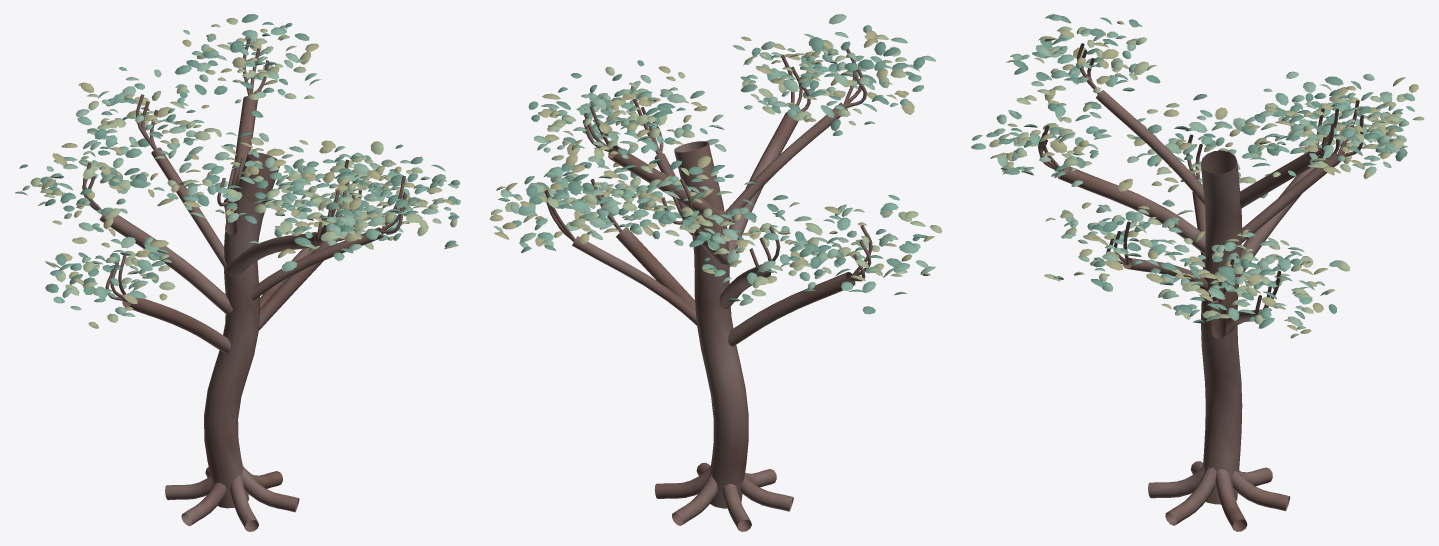
File: canopy-tree.glb
The picture shows the model from 3 angles, left to right: view 1: azimuth 30°, elevation 25°; view 2: azimuth 150°, elevation 25°; view 3: azimuth 270°, elevation 25°; orthographic projection. The views are drawn at different scales.
Visible parts, largest first — view 1: Bent bark trunk, Tapering limb.001, Tapering limb.004, Tapering limb.005, Tapering limb.002, Tapering limb.006, Tapering limb, Tapering limb.003, Root flare.005, Root flare.003, Root flare.004, Root flare.002; view 2: Bent bark trunk, Tapering limb.004, Tapering limb.008, Tapering limb.007, Tapering limb.002, Tapering limb, Tapering limb.003, Root flare.001, Root flare.003, Root flare, Root flare.002, Tapering limb.001; view 3: Bent bark trunk, Tapering limb.002, Tapering limb.007, Tapering limb.006, Tapering limb.003, Root flare.005, Root flare.001, Root flare, Tapering limb.001, Root flare.004, Tapering limb.005.
Boxes of the visible parts, x1=… form: Bent bark trunk: x1=204, y1=152, x2=279, y2=508; Tapering limb.001: x1=99, y1=215, x2=232, y2=315; Tapering limb.004: x1=122, y1=293, x2=230, y2=353; Tapering limb.005: x1=251, y1=227, x2=383, y2=300; Tapering limb.002: x1=225, y1=232, x2=321, y2=276; Tapering limb.006: x1=151, y1=147, x2=226, y2=269; Tapering limb: x1=259, y1=241, x2=329, y2=330; Tapering limb.003: x1=225, y1=96, x2=257, y2=231; Root flare.005: x1=242, y1=467, x2=299, y2=512; Root flare.003: x1=181, y1=482, x2=226, y2=526; Root flare.004: x1=230, y1=476, x2=258, y2=531; Root flare.002: x1=165, y1=476, x2=212, y2=500; Bent bark trunk: x1=674, y1=141, x2=748, y2=508; Tapering limb.004: x1=728, y1=272, x2=855, y2=346; Tapering limb.008: x1=572, y1=236, x2=697, y2=325; Tapering limb.007: x1=725, y1=102, x2=847, y2=221; Tapering limb.002: x1=728, y1=112, x2=798, y2=264; Tapering limb: x1=616, y1=227, x2=695, y2=309; Tapering limb.003: x1=608, y1=145, x2=728, y2=226; Root flare.001: x1=672, y1=475, x2=717, y2=525; Root flare.003: x1=741, y1=475, x2=793, y2=511; Root flare: x1=654, y1=466, x2=710, y2=498; Root flare.002: x1=722, y1=484, x2=751, y2=531; Tapering limb.001: x1=719, y1=264, x2=770, y2=309; Bent bark trunk: x1=1201, y1=150, x2=1242, y2=504; Tapering limb.002: x1=1058, y1=166, x2=1205, y2=253; Tapering limb.007: x1=1096, y1=90, x2=1204, y2=204; Tapering limb.006: x1=1241, y1=152, x2=1340, y2=243; Tapering limb.003: x1=1240, y1=151, x2=1318, y2=208; Root flare.005: x1=1165, y1=467, x2=1216, y2=525; Root flare.001: x1=1231, y1=471, x2=1290, y2=511; Root flare: x1=1215, y1=469, x2=1247, y2=531; Tapering limb.001: x1=1240, y1=167, x2=1315, y2=276; Root flare.004: x1=1148, y1=466, x2=1204, y2=498; Tapering limb.005: x1=1123, y1=258, x2=1208, y2=290.
Bounding box in the file's own units: 3.89 × 4.03 × 3.73.
